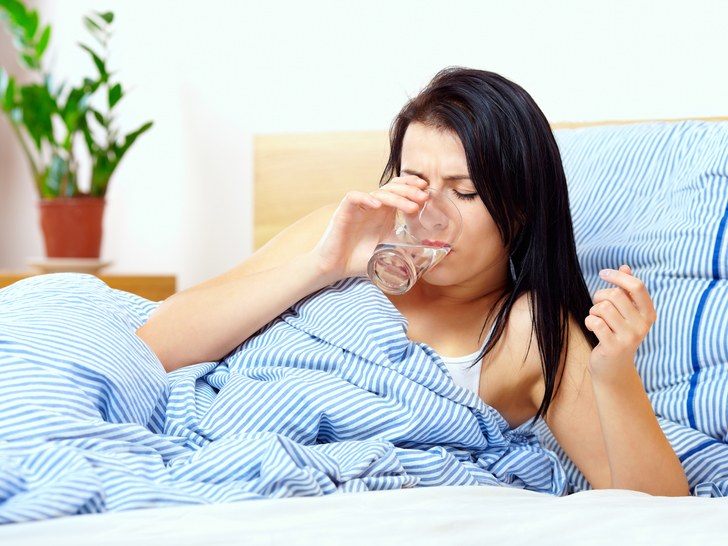drinking: (311, 67, 604, 365)
